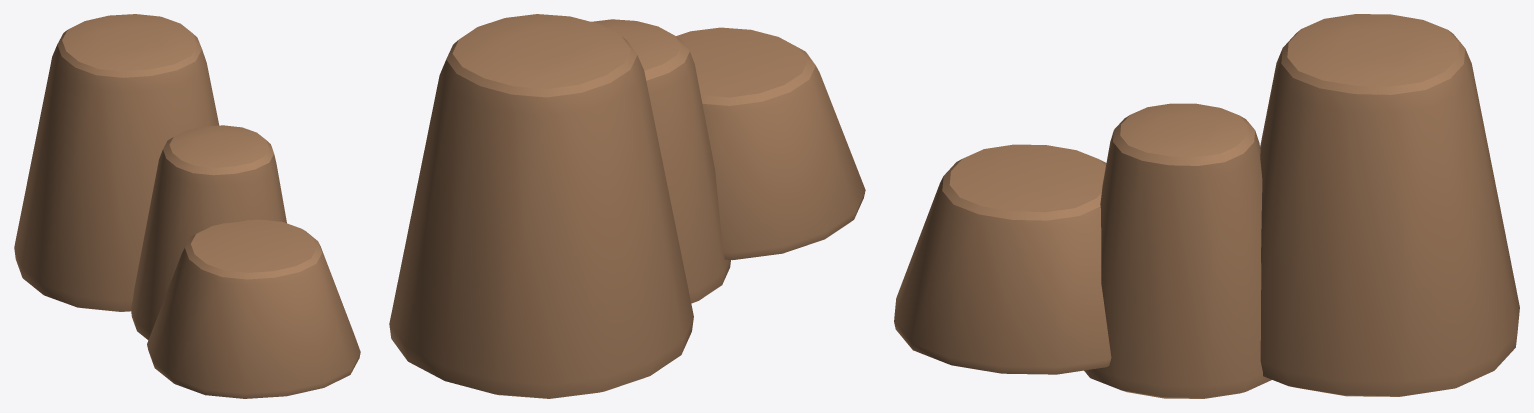
The model's file is RockPlatforms_1_001.gltf.
3 views of the same model, side by side, from view 1: azimuth 30°, elevation 25°; view 2: azimuth 150°, elevation 25°; view 3: azimuth 270°, elevation 25° (orthographic). The views are drawn at different scales.
Parts seen in each view (by area): view 1: RockPlatforms_1.001; view 2: RockPlatforms_1.001; view 3: RockPlatforms_1.001.
Boxes of the visible parts, x1,y1,x2,y2 form: RockPlatforms_1.001: (14,14,360,398); RockPlatforms_1.001: (389,14,865,398); RockPlatforms_1.001: (894,14,1519,398).
Size of the model in its own units: 3.44 by 3.94 by 7.28.
